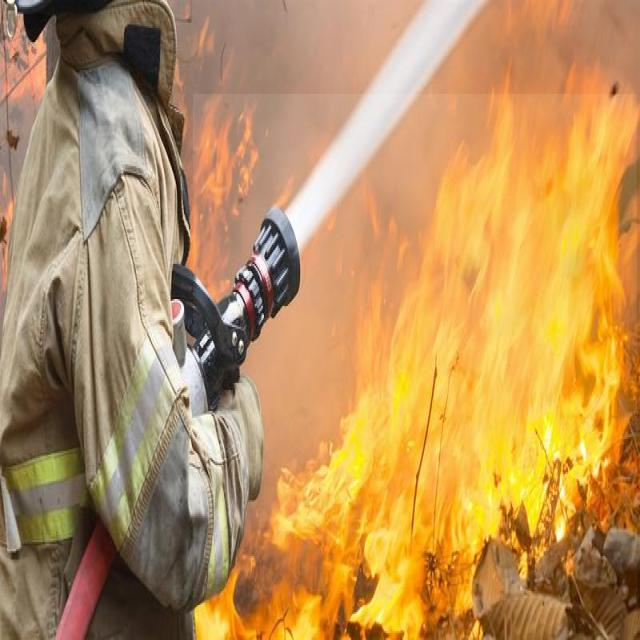Fire: (193, 94, 637, 640)
